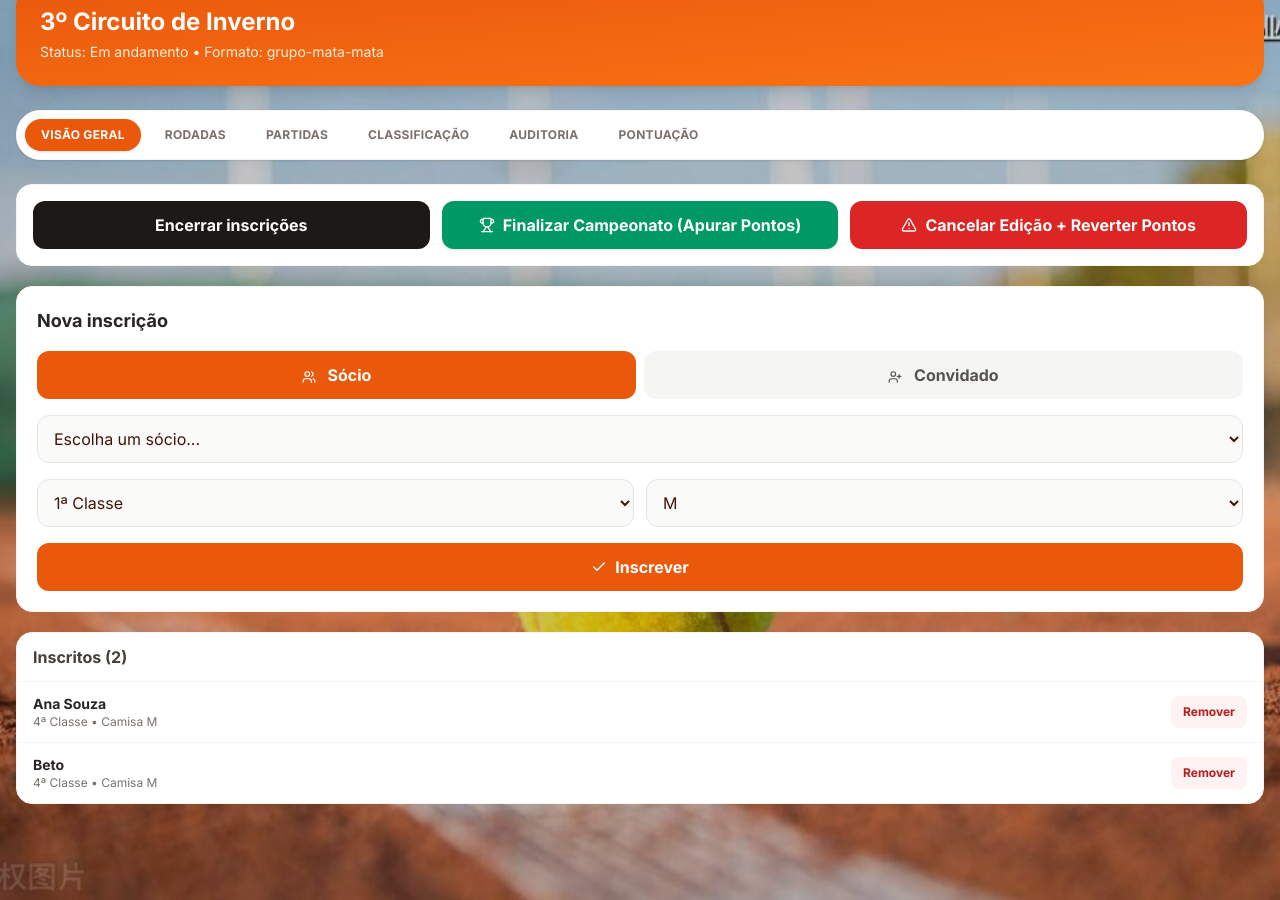
Test: ChampionshipAdmin — inscrições › pergunta antes de remover, e usa o nome de quem sai na pergunta
The image size is (1280, 900).
(page scrolled)
Expected: the text "Ana Souza" is shown, [33,695,106,712]
What coordinates should you click on to do the following:
click the button "Remover" in the row of "Ana Souza"
I would click on:
 (1209, 712)
Its box is [1171,696,1247,728].
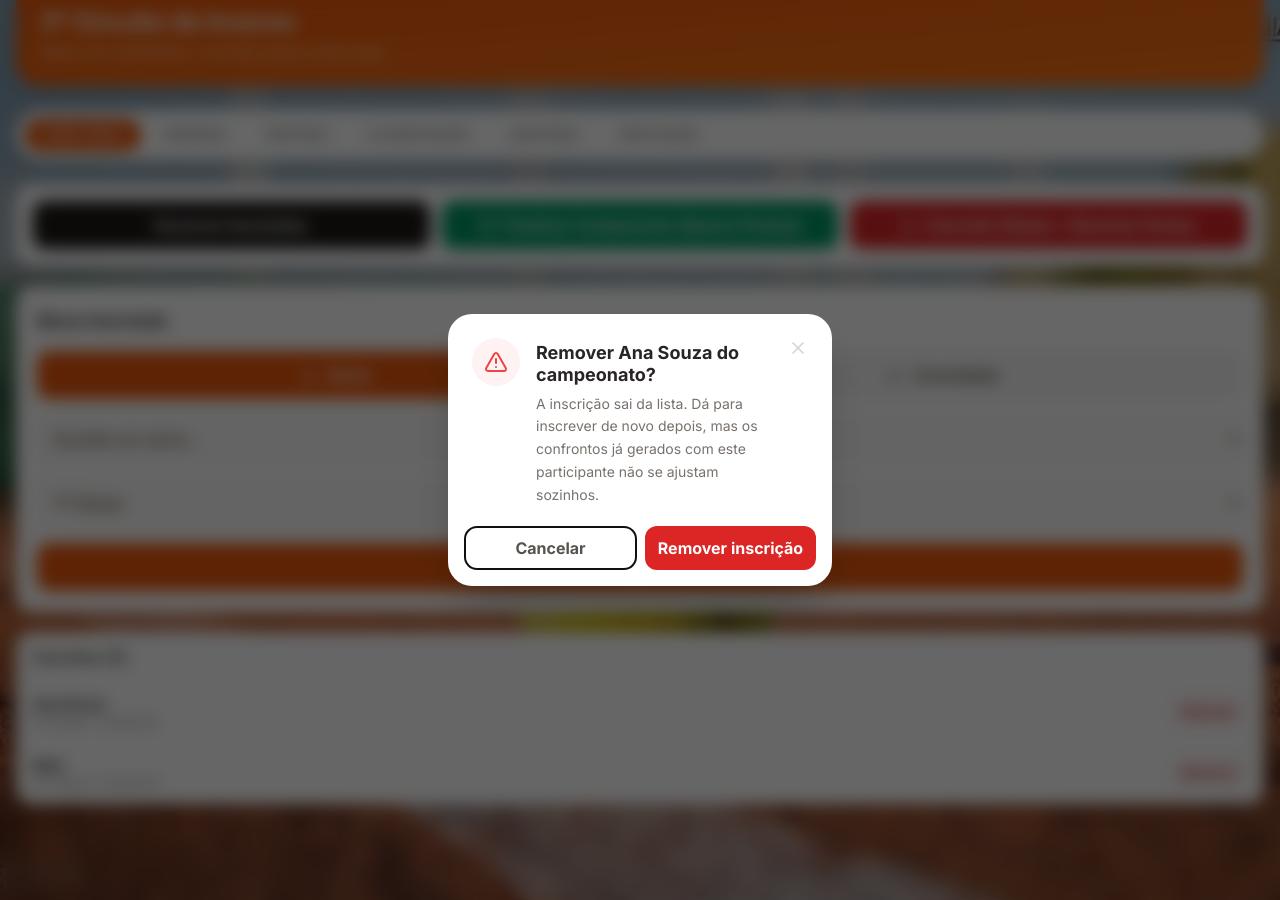
Now the heading "Remover Ana Souza do campeonato?" is shown, box [536,342,768,387]
